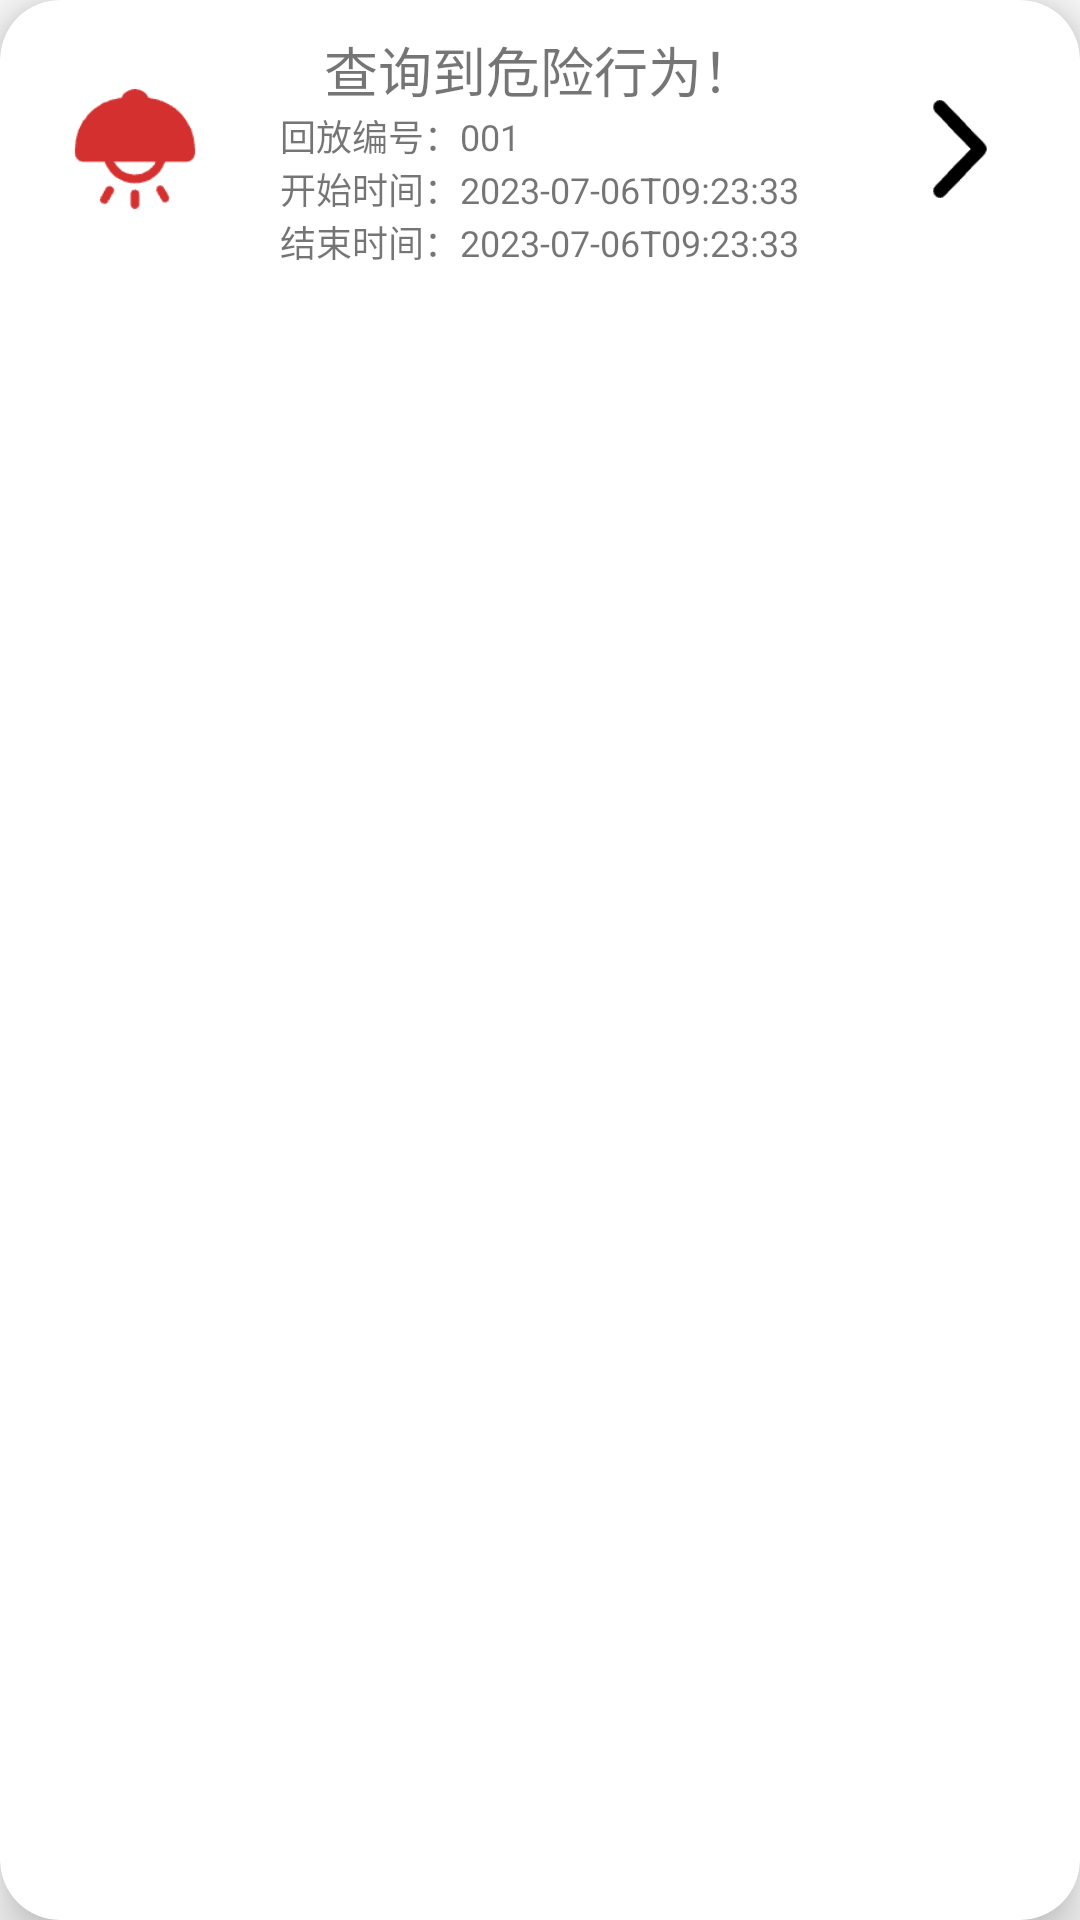

Icon click points for this 1080*1920 phone screenshot, format [x,y]:
record in: [960,149]
